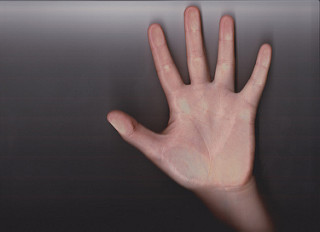palm: (162, 83, 258, 184)
